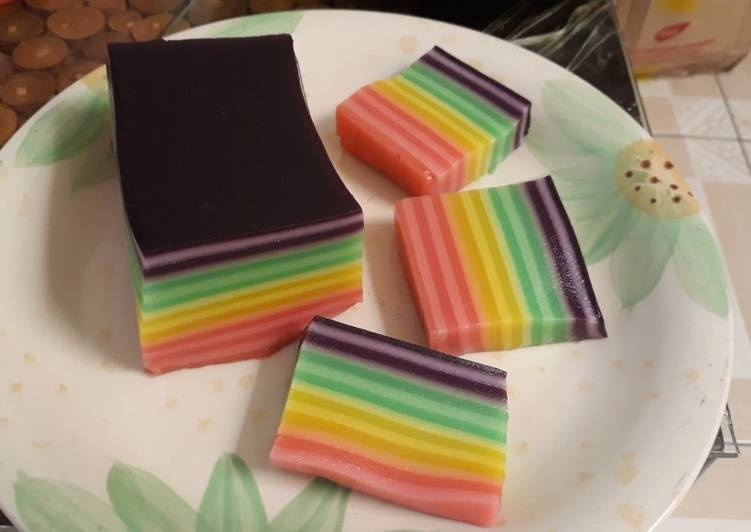kue_lapis_pelangi: (268, 308, 503, 527), (394, 174, 611, 355), (138, 212, 364, 372), (335, 46, 533, 195)
